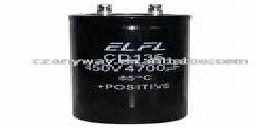Electrolytic-Capacitor: (67, 3, 194, 121)
